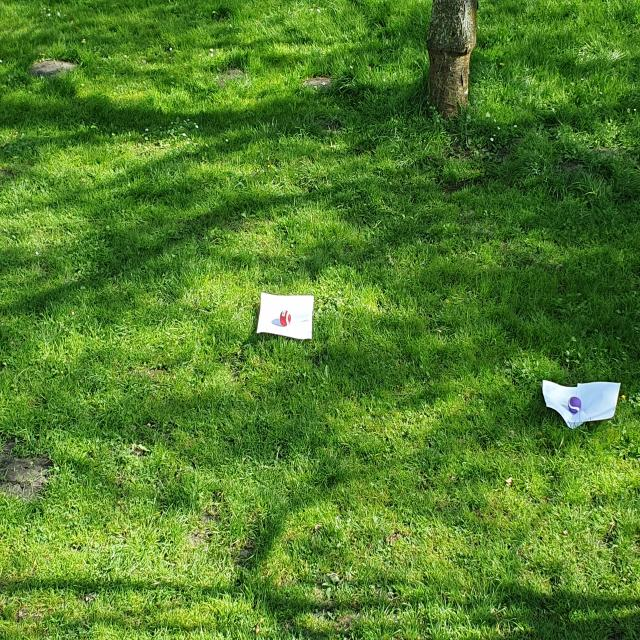purple: (568, 395, 581, 413)
red: (280, 310, 291, 326)
